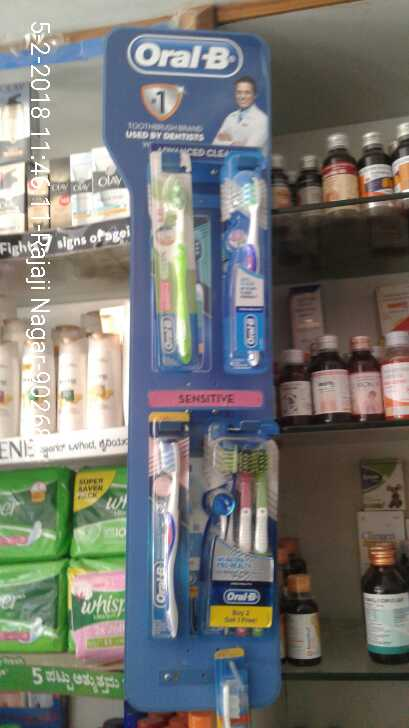beauty: (1, 293, 149, 437), (66, 138, 124, 223)
pharmacy: (1, 471, 127, 654), (198, 433, 281, 632), (151, 163, 208, 370), (140, 427, 189, 648), (220, 168, 268, 365)
